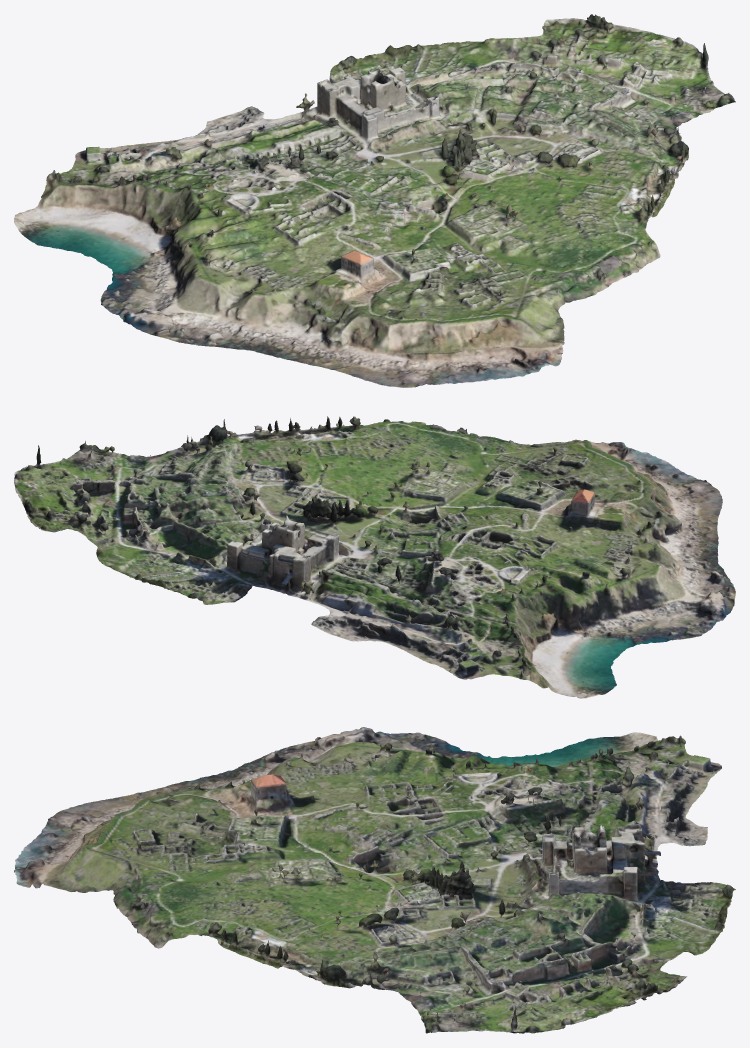
The picture shows the model from 3 angles, top to bottom: view 1: azimuth 30°, elevation 25°; view 2: azimuth 150°, elevation 25°; view 3: azimuth 270°, elevation 25°; orthographic projection. The views are drawn at different scales.
Parts seen in each view (by area): view 1: LBN_002_M1_Byblos_LP; view 2: LBN_002_M1_Byblos_LP; view 3: LBN_002_M1_Byblos_LP.
Part boxes in pixels (<box>): LBN_002_M1_Byblos_LP: <box>14,14,735,387</box>; LBN_002_M1_Byblos_LP: <box>14,416,735,698</box>; LBN_002_M1_Byblos_LP: <box>14,727,735,1033</box>.
Size of the model in its own units: 466 by 61.41 by 396.
1 material, 1 textured.
